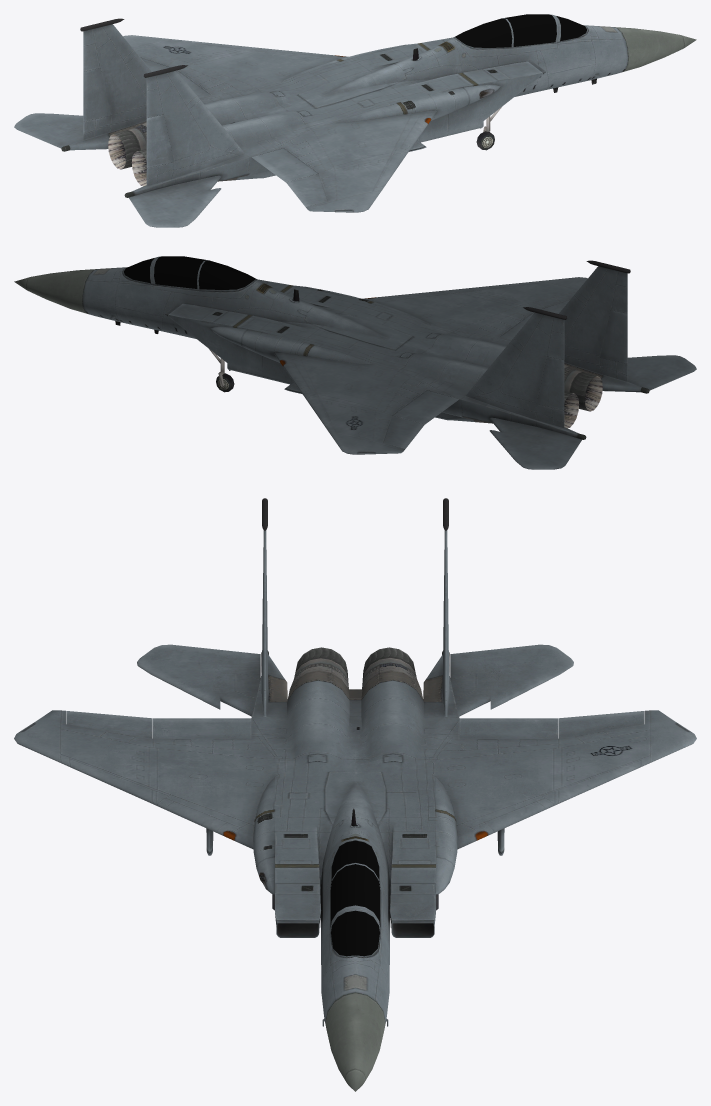
Rendered from f-15c_eagle_usa.fbx.
3 renders of one model, top to bottom at view 1: azimuth 30°, elevation 25°; view 2: azimuth 150°, elevation 25°; view 3: azimuth 270°, elevation 25°, orthographic. The views are drawn at different scales.
Visible parts, largest first — view 1: mesh_176, mesh_156, mesh_177; view 2: mesh_176, mesh_156, mesh_177; view 3: mesh_176, mesh_156.
Boxes of the visible parts, left/top/right/bottom form: mesh_176: left=14, top=14, right=696, bottom=227; mesh_156: left=455, top=14, right=586, bottom=47; mesh_177: left=476, top=107, right=501, bottom=150; mesh_176: left=14, top=256, right=696, bottom=469; mesh_156: left=124, top=256, right=255, bottom=289; mesh_177: left=209, top=349, right=234, bottom=392; mesh_176: left=14, top=498, right=696, bottom=1091; mesh_156: left=330, top=840, right=380, bottom=956.
Size of the model in its own units: 21848 by 6432 by 14715.
Materials: 2 (2 with a texture image).
